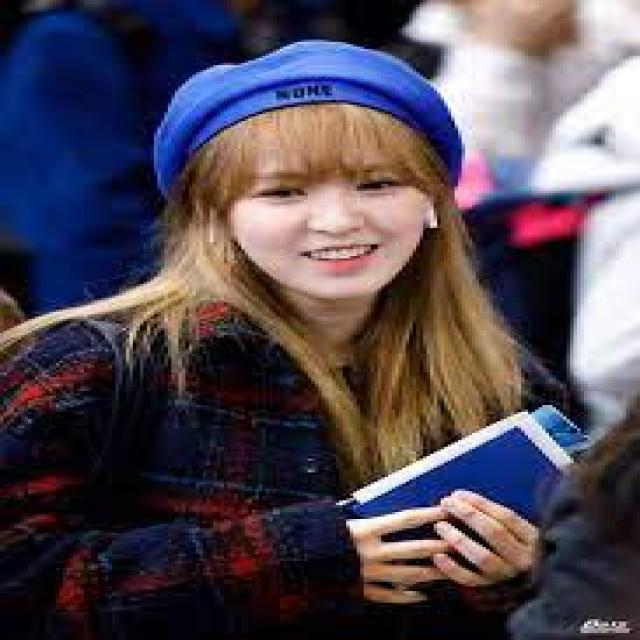earphone: (202, 200, 235, 262), (413, 195, 450, 245)
